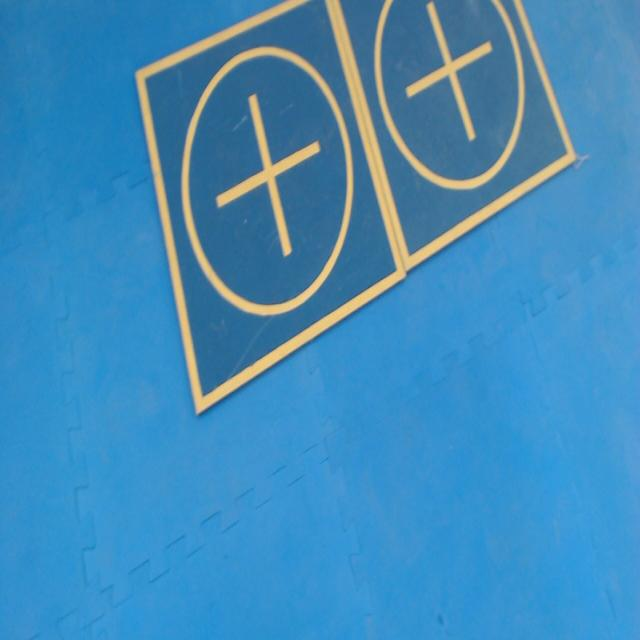base_pouso: (134, 0, 409, 419), (332, 0, 576, 272)
